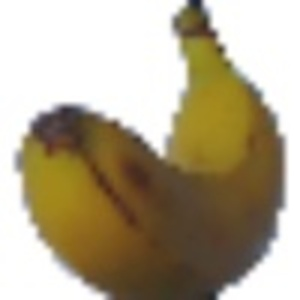banana: (13, 3, 277, 293)
